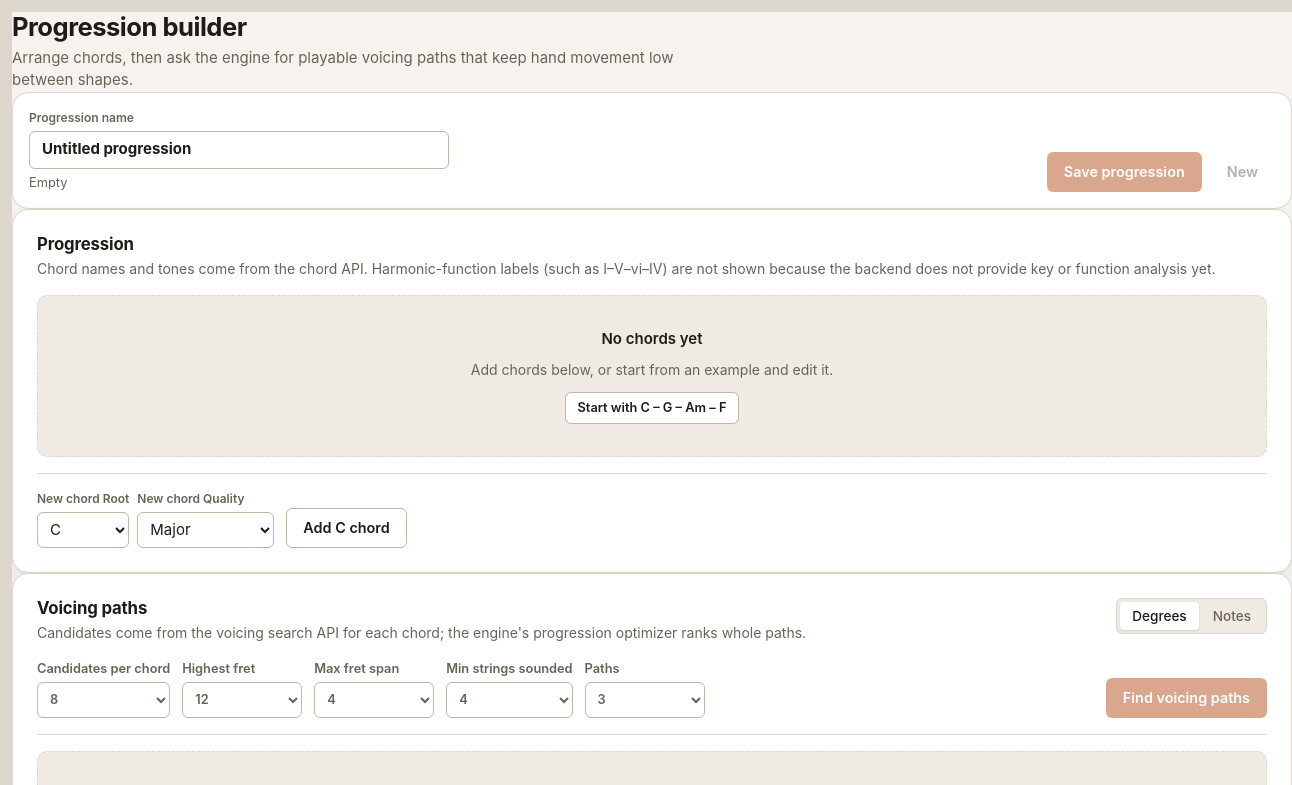
ProgressionBuilder › builds, reorders and removes chords using chord identities from the service
Click the button "Start with C – G – Am – F" at (652, 408), box [564, 392, 739, 424]
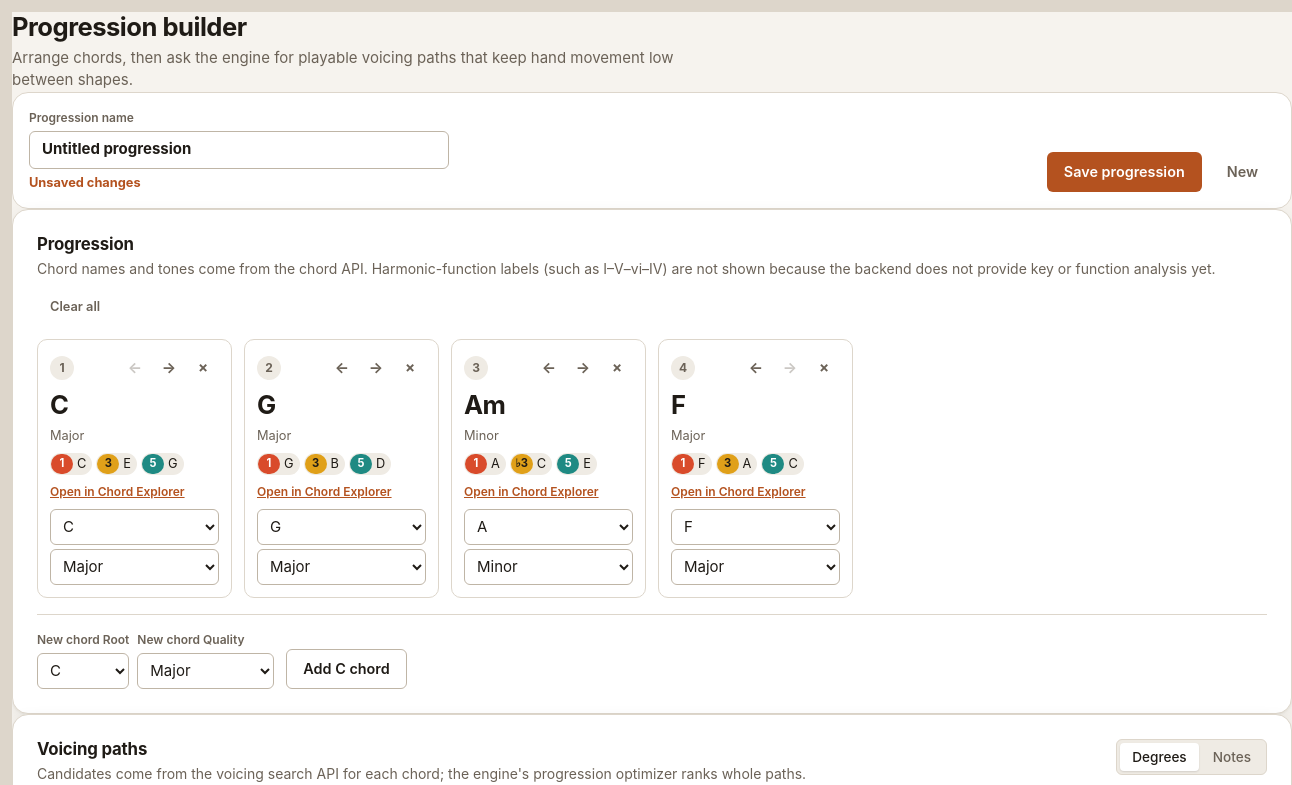
Result: the list named "Am chord tones" shows "♭3" at [516, 456, 528, 470]
Click the button named "Move chord 3 later" at (583, 368), box [567, 352, 599, 384]
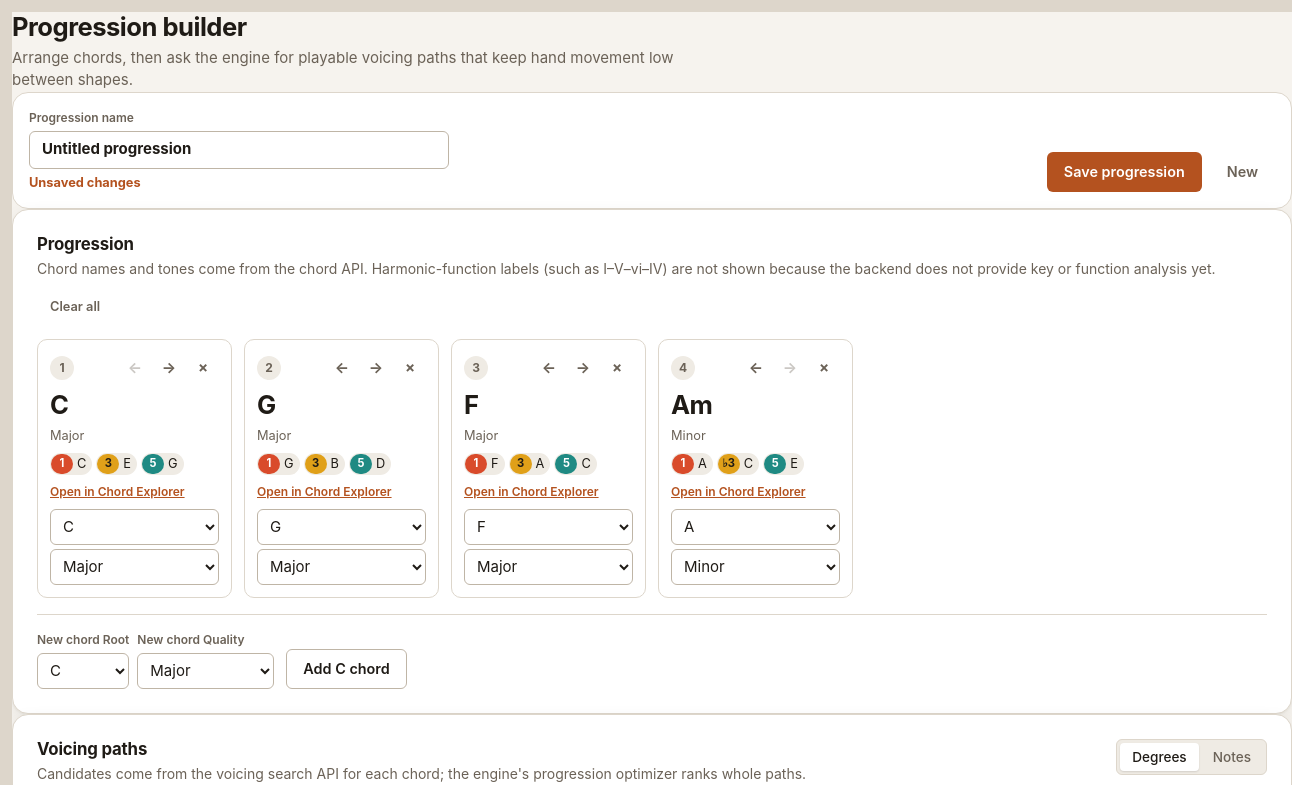
Click the button named "Remove chord 2" at (410, 368), box [394, 352, 426, 384]
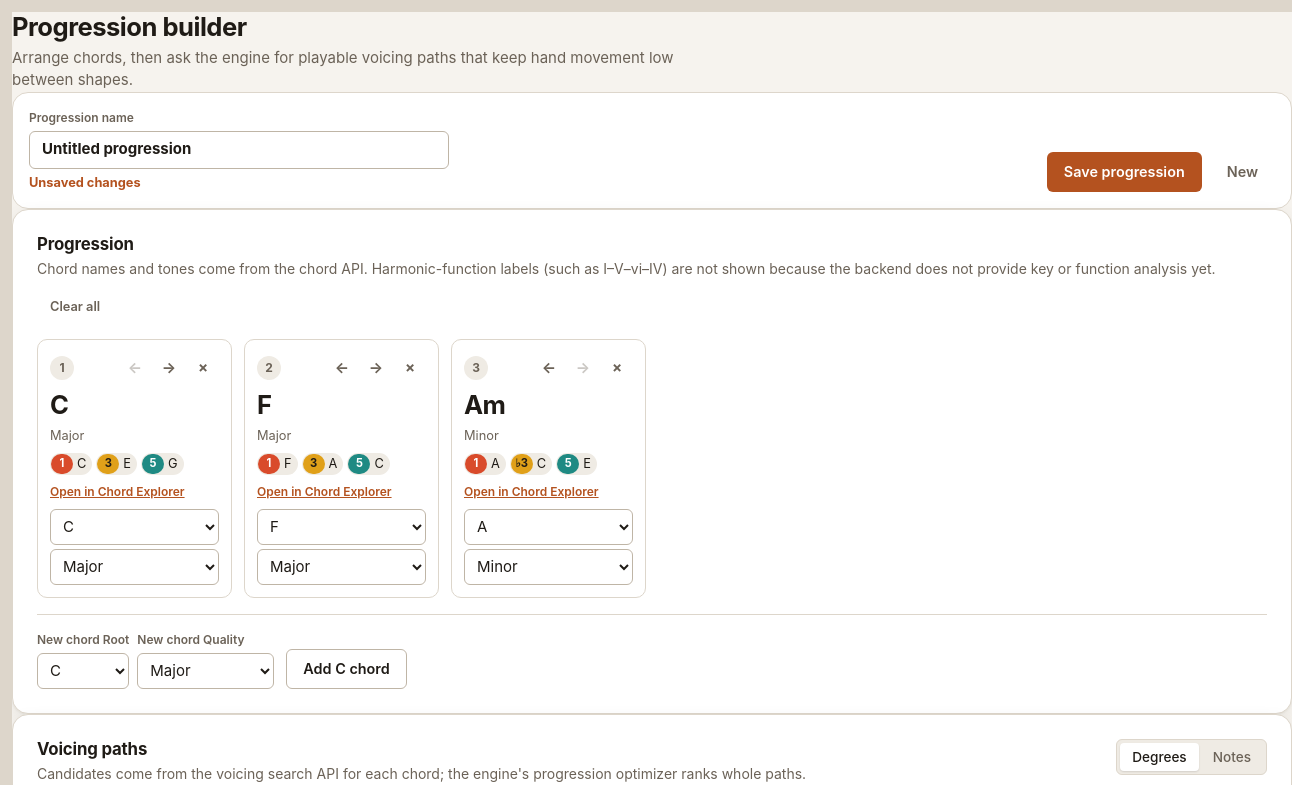
Select "D" in the dropdown labelled "New chord Root" at (83, 671), box [37, 653, 129, 689]
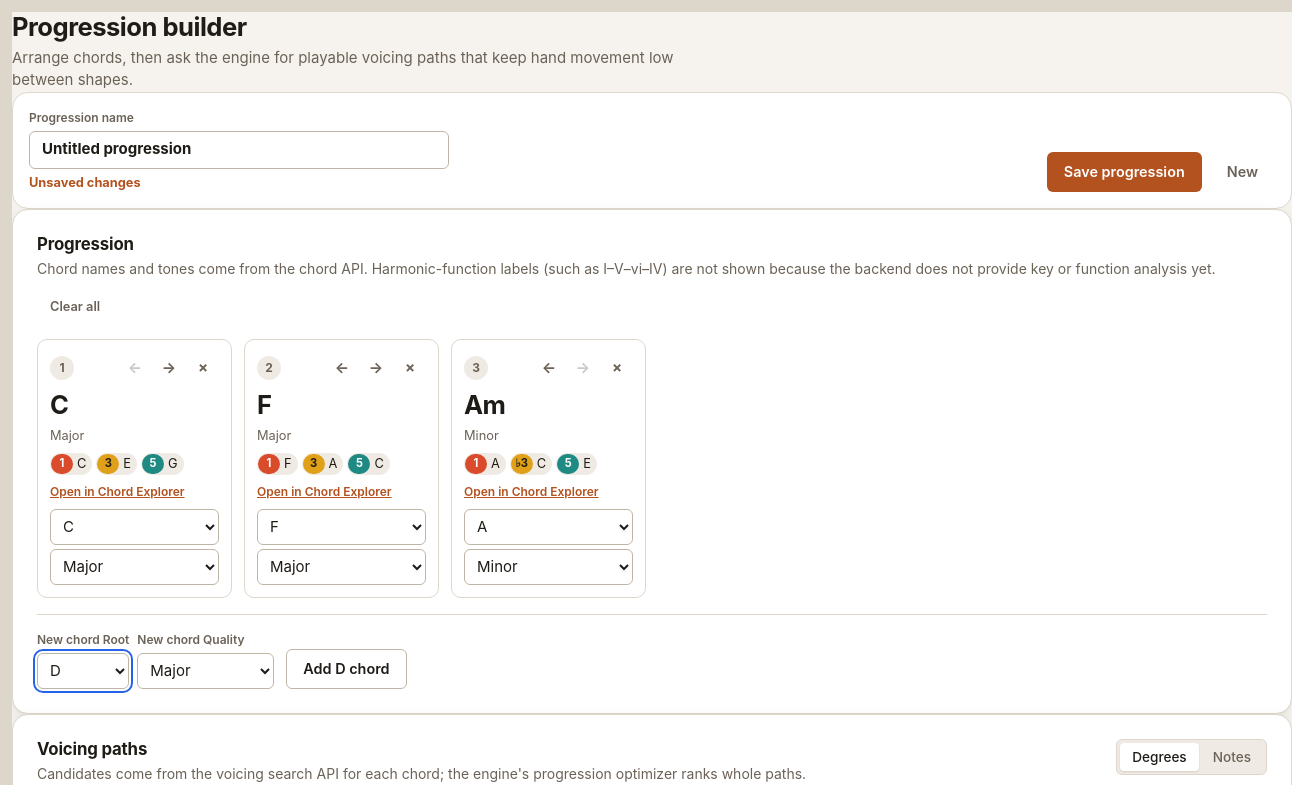
Select "Sus 4" in the dropdown labelled "New chord Quality" at (206, 671), box [137, 653, 274, 689]
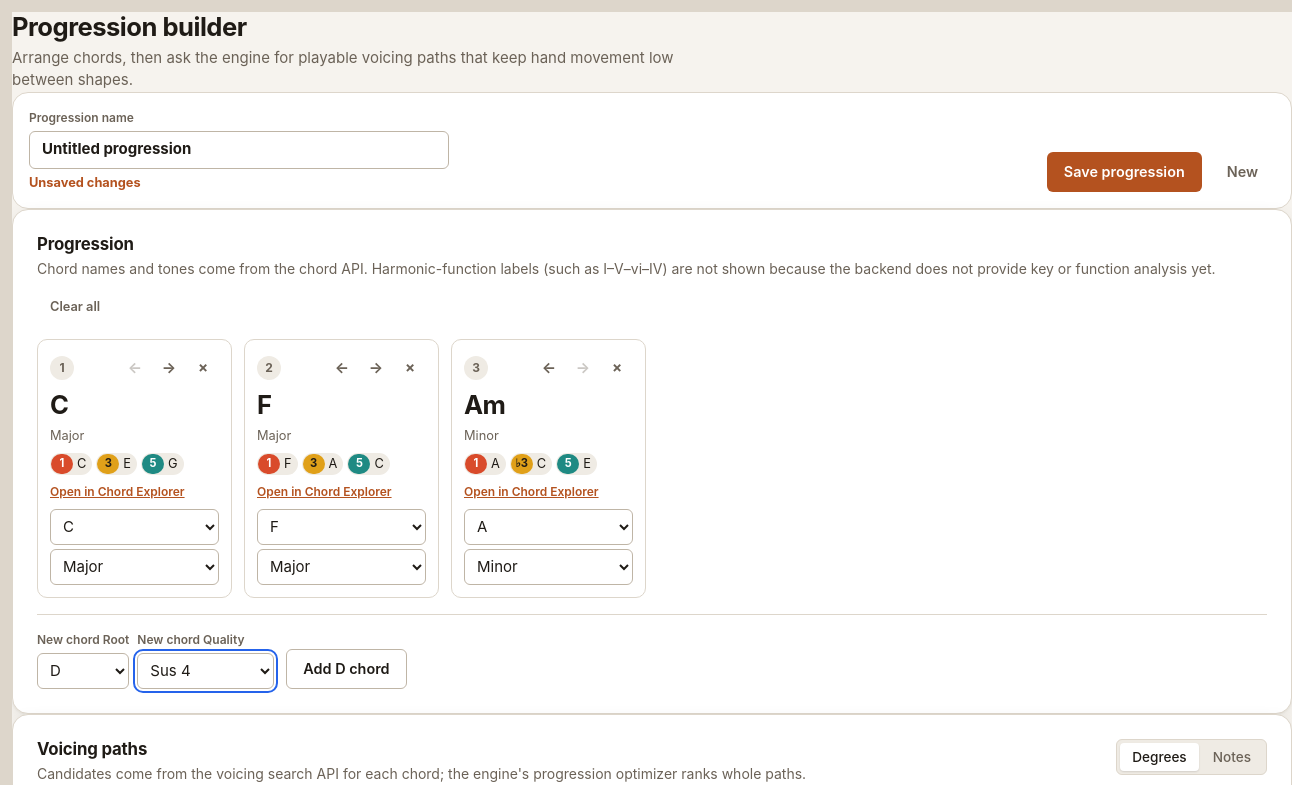
Click the button "Add D chord" at (346, 669), box [286, 649, 406, 689]
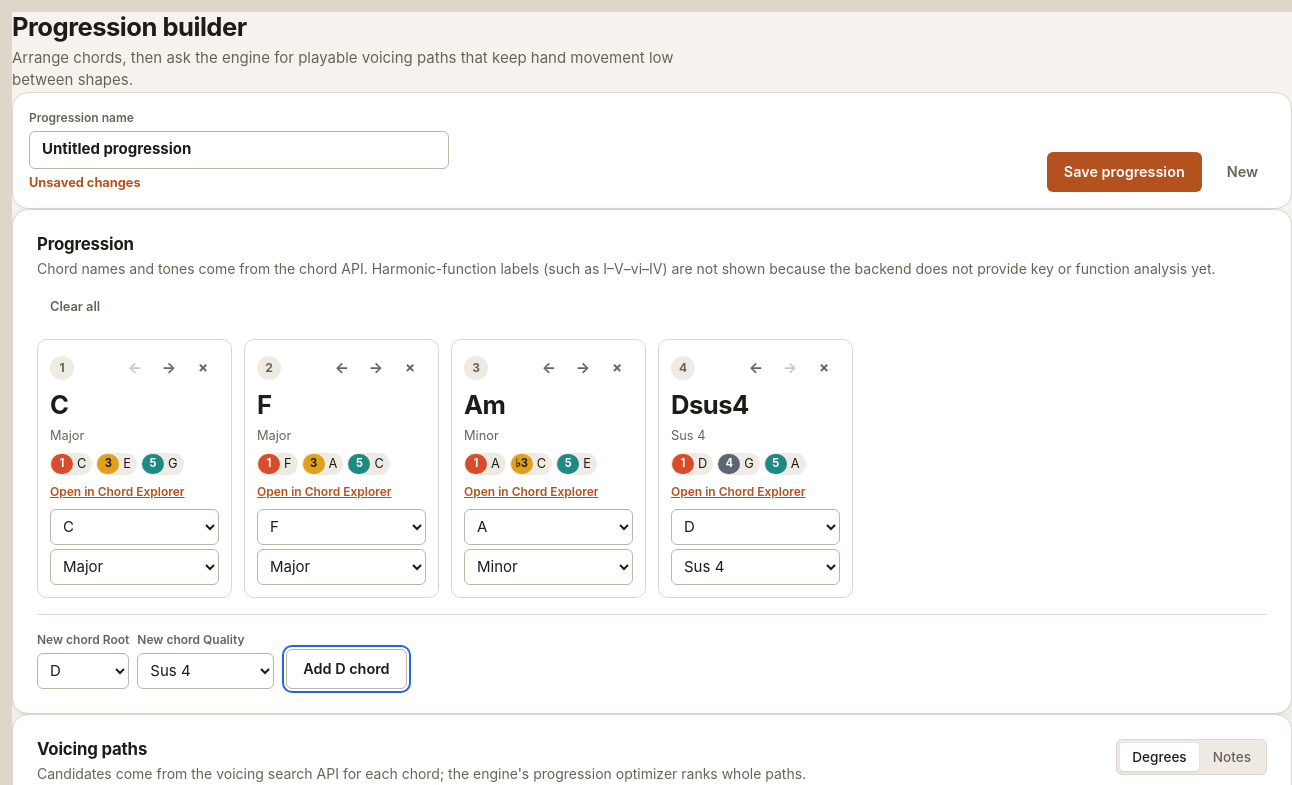
Result: the text "Dsus4" is shown at [671, 389, 749, 420]
Result: the number of list items "1 ← → × C Major 1 C 3 E 5 G Open in Chord Explorer" is 4 at [37, 339, 232, 598]; [244, 339, 439, 598]; [451, 339, 646, 598]; [658, 339, 853, 598]
